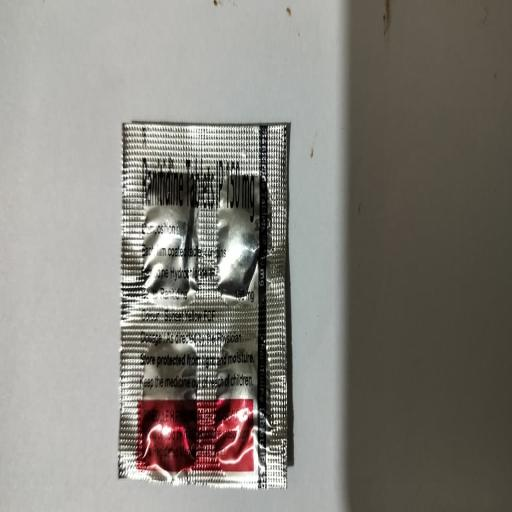ranitidine: (96, 94, 355, 489)
